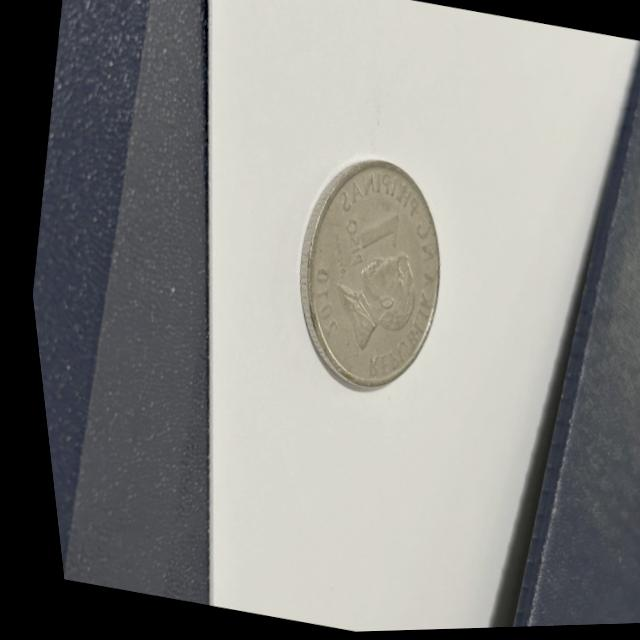1_Old_Front: (326, 200, 409, 279)
